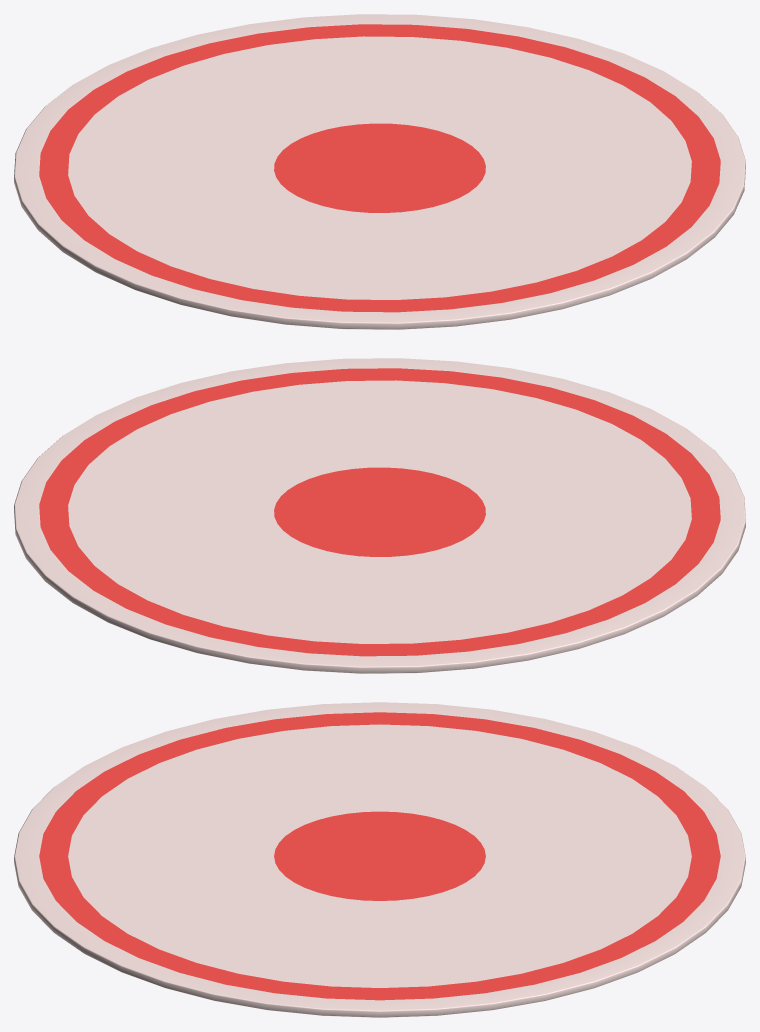
File: Store_20_Napkin_1.glb
3 renders of one model, top to bottom at view 1: azimuth 30°, elevation 25°; view 2: azimuth 150°, elevation 25°; view 3: azimuth 270°, elevation 25°, orthographic.
Parts seen in each view (by area): view 1: Store_20_Napkin_1; view 2: Store_20_Napkin_1; view 3: Store_20_Napkin_1.
Boxes of the visible parts, x1,y1,x2,y2 form: Store_20_Napkin_1: (14, 14, 745, 329); Store_20_Napkin_1: (14, 358, 745, 673); Store_20_Napkin_1: (14, 702, 745, 1017).
Bounding box in the file's own units: 1.35 × 0.015 × 1.35.
Materials: 1 (1 with a texture image).
